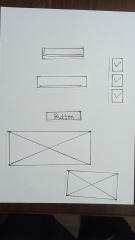button: (45, 112, 80, 120)
checkbox: (110, 75, 123, 88), (112, 57, 123, 72), (111, 89, 120, 102)
img: (9, 131, 90, 163), (68, 170, 120, 199)
text: (36, 74, 88, 88), (42, 46, 83, 59)
